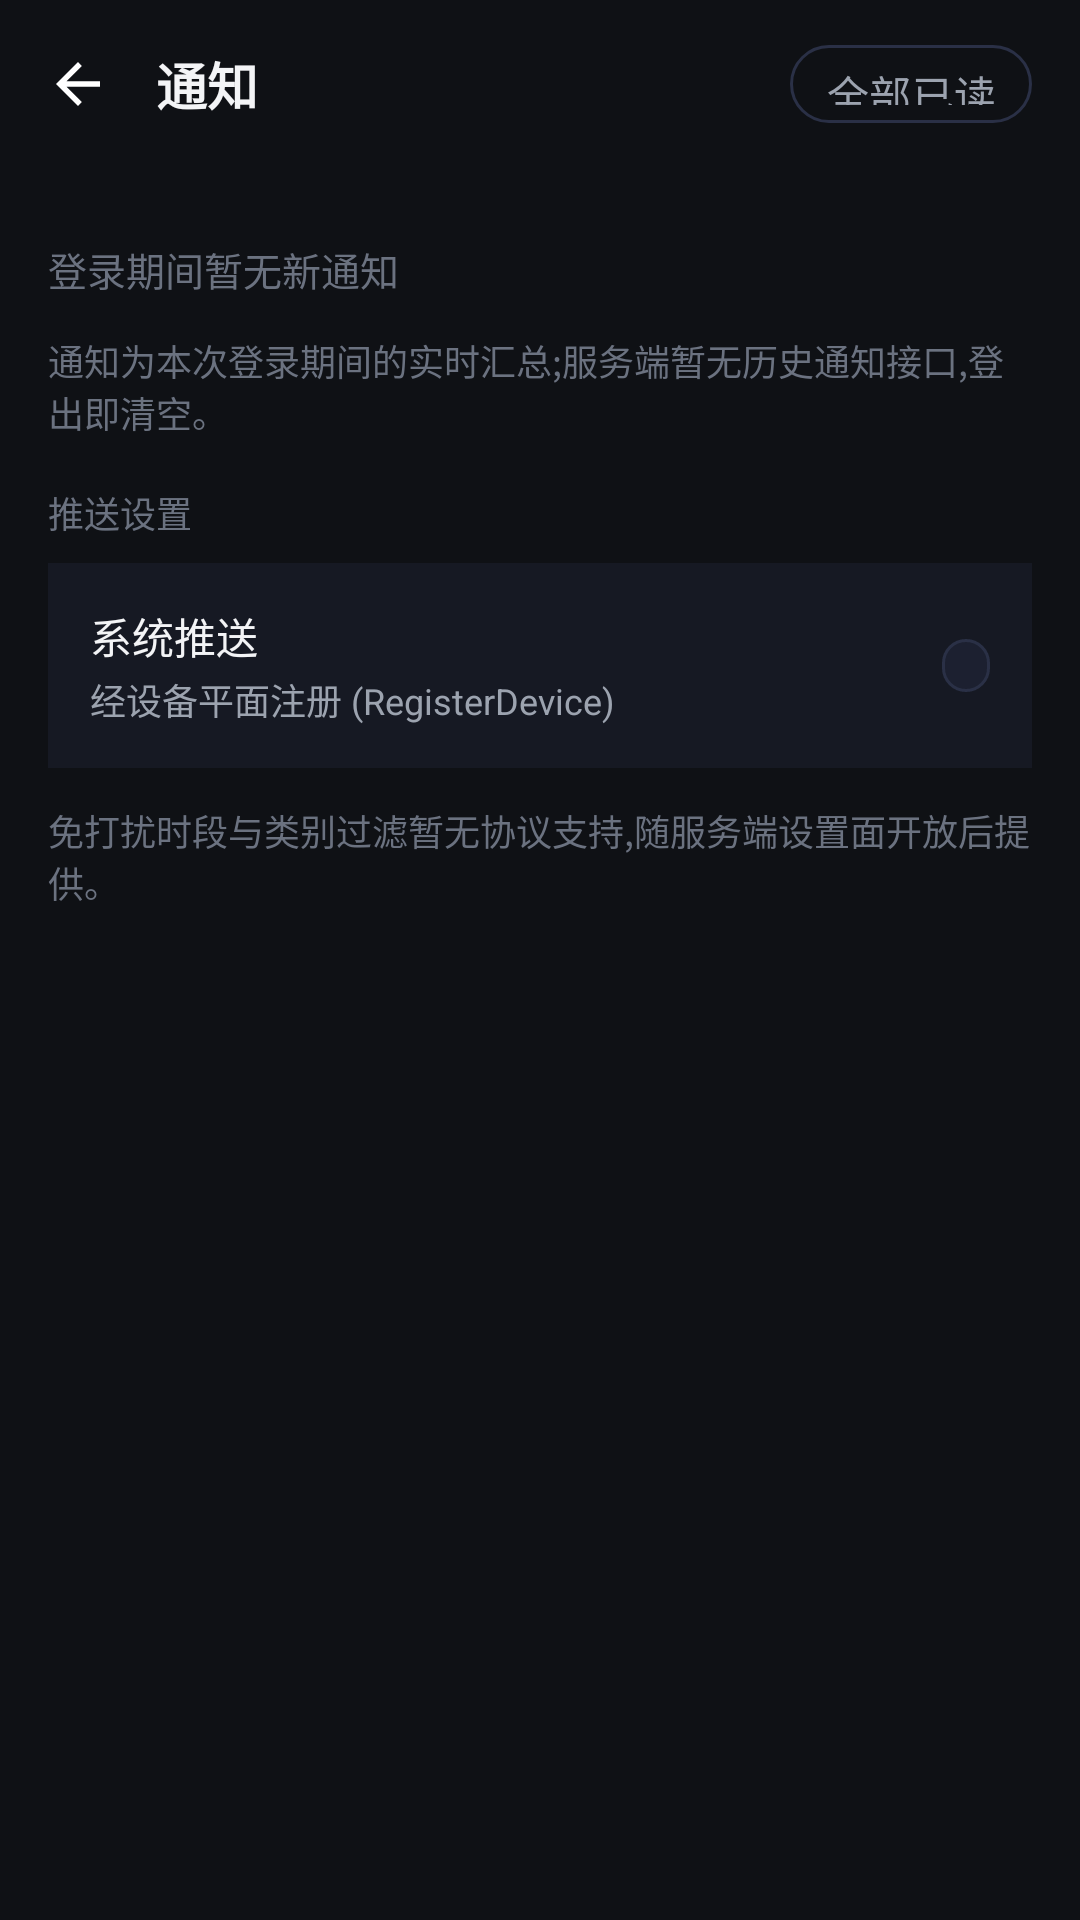

Screen size 1080px x 1920px. Icon name, then its center in pixels as (x=x, y=y):
back: (x=78, y=84)
